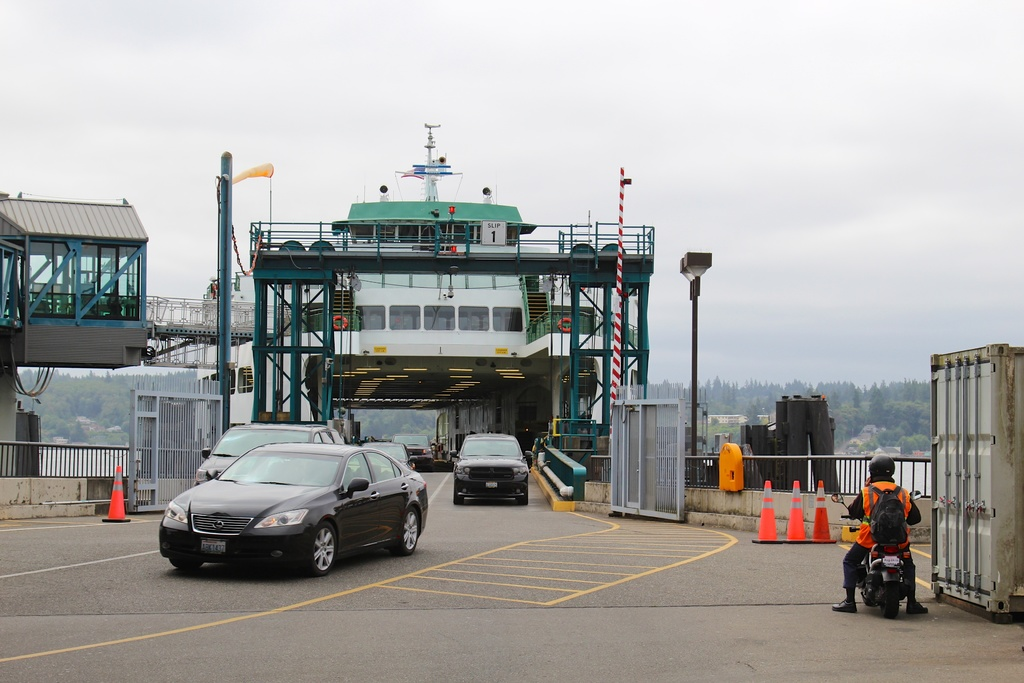Car: (149, 420, 424, 577), (191, 413, 356, 480), (451, 425, 529, 505), (368, 433, 453, 474)
